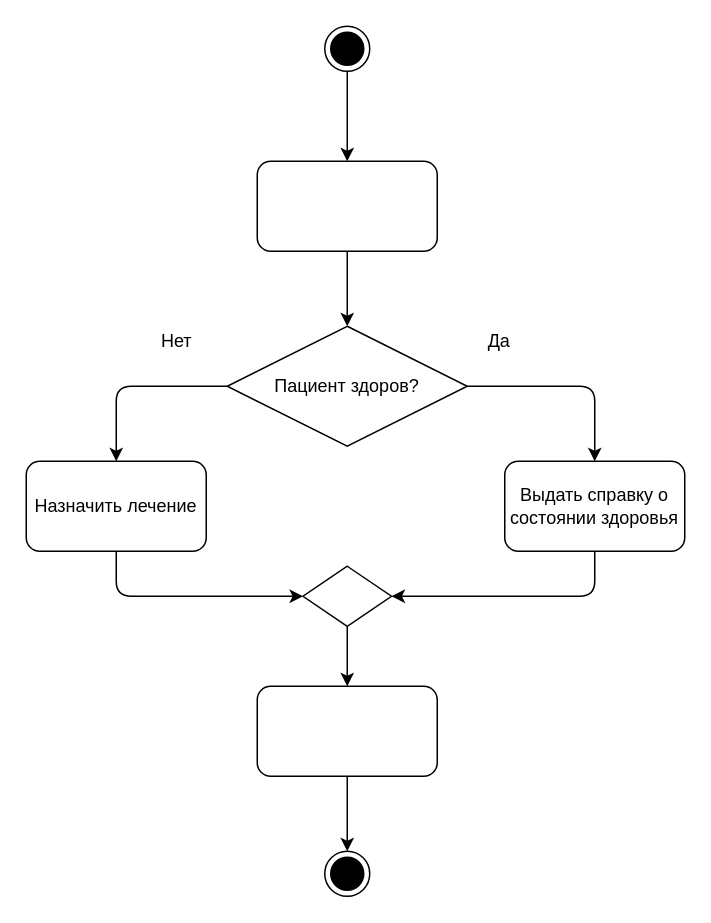
The diagram is 711 pixels wide and 923 high, and some of its shapes have lost their labels. Here are the shapes that lost their labels. From the top down, the box of each, then its label:
(256, 160, 437, 251): Провести осмотр
(256, 685, 437, 776): Внести данные в карту пациента
